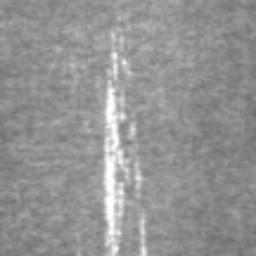White rust: (102, 51, 144, 256), (139, 210, 148, 256)
